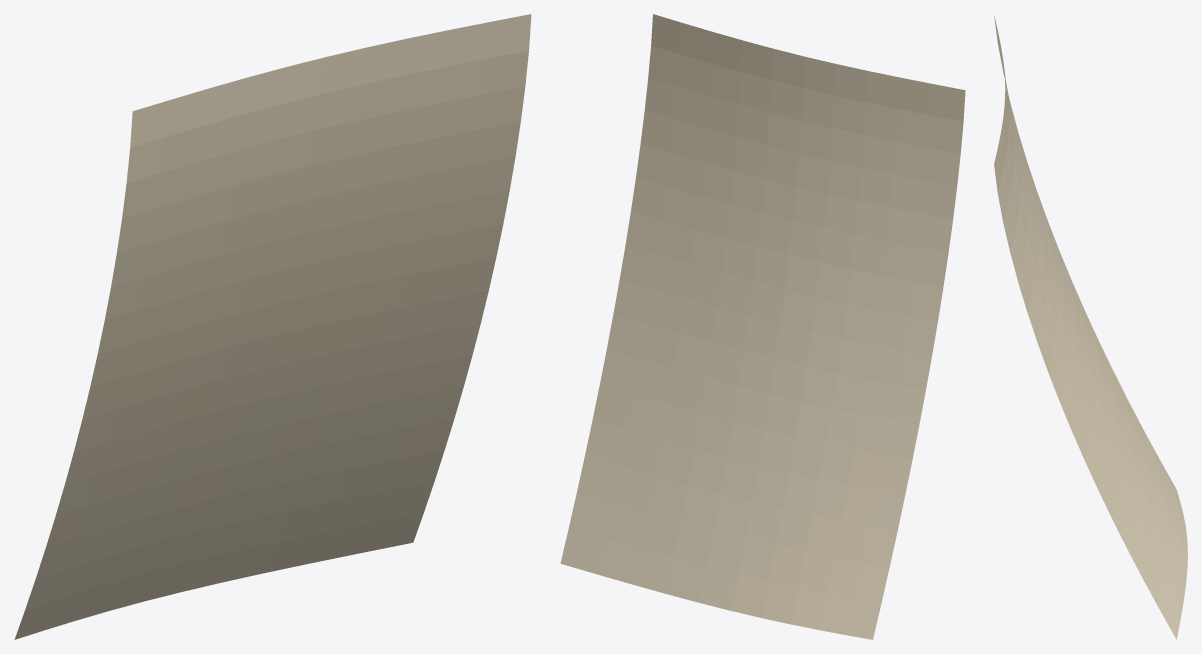
The model's file is Waterfall.fbx.
The picture shows the model from 3 angles, left to right: view 1: azimuth 30°, elevation 25°; view 2: azimuth 150°, elevation 25°; view 3: azimuth 270°, elevation 25°; orthographic projection. The views are drawn at different scales.
Visible parts, largest first — view 1: Waterfall_EXP; view 2: Waterfall_EXP; view 3: Waterfall_EXP.
Boxes of the visible parts, left/top/right/bottom form: Waterfall_EXP: left=14, top=14, right=531, bottom=639; Waterfall_EXP: left=560, top=14, right=965, bottom=639; Waterfall_EXP: left=994, top=16, right=1187, bottom=639.
Size of the model in its own units: 3.8 by 5.6 by 2.07.
